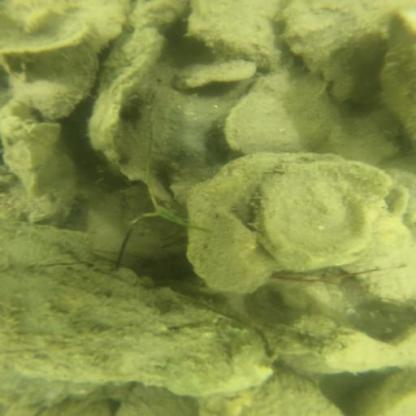Oyster- Indeterminate: (0, 261, 280, 390), (257, 154, 410, 268)
Oyster-Closed: (189, 152, 350, 293), (8, 0, 133, 120), (281, 2, 385, 100), (91, 26, 165, 156), (1, 109, 77, 218), (226, 76, 301, 152), (189, 7, 278, 71), (380, 16, 413, 146), (248, 371, 343, 414), (123, 215, 189, 275), (131, 1, 181, 31)
